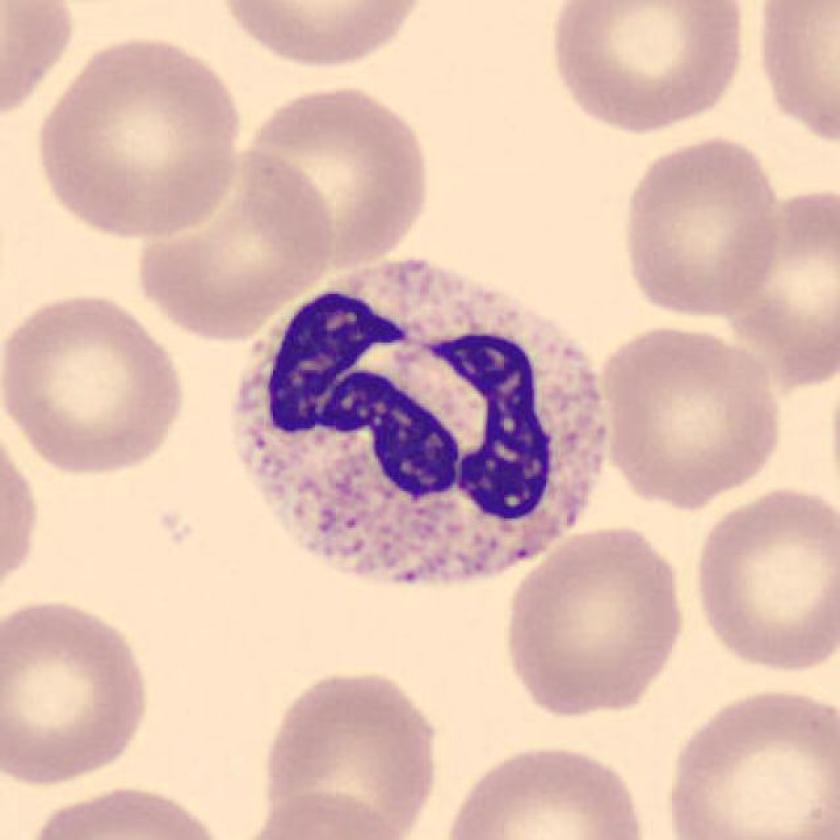neutrophil: (232, 261, 610, 582)
